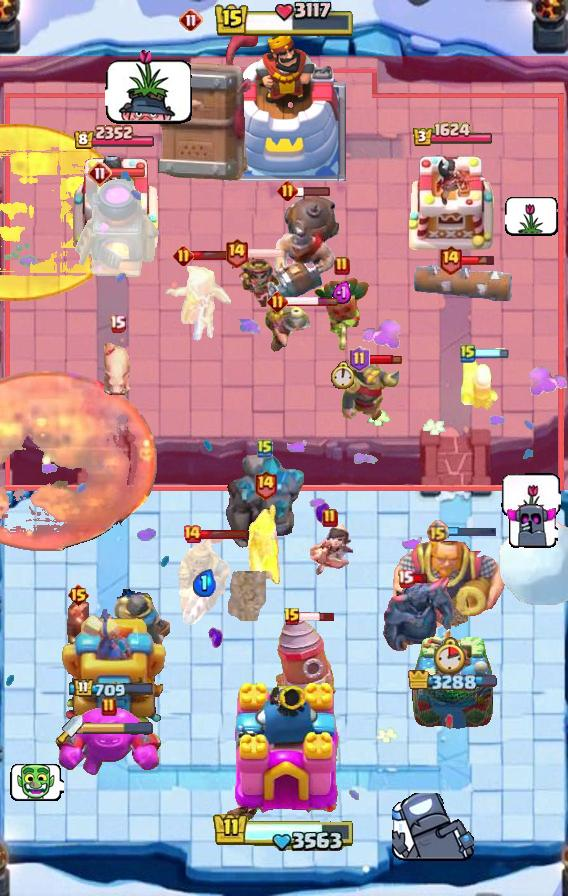bandit: (263, 301, 317, 353)
bar: (62, 601, 166, 731)
bomb-tower: (246, 502, 284, 600)
bomber: (65, 599, 91, 649)
bomber-evolution: (228, 253, 282, 307)
cannoneer-tower: (223, 455, 307, 553)
clock: (212, 812, 356, 854), (213, 0, 355, 40)
clone: (54, 705, 164, 779)
dart-goblin: (156, 22, 260, 181)
electro-spirit: (192, 569, 216, 597), (332, 281, 353, 305)
elixir: (433, 637, 466, 675), (330, 361, 354, 389)
emote: (446, 525, 498, 539), (285, 297, 339, 308), (191, 250, 241, 261), (199, 528, 249, 539), (248, 247, 285, 259), (299, 611, 336, 623), (295, 185, 331, 197), (460, 254, 495, 266), (366, 353, 401, 365), (110, 166, 146, 177), (473, 348, 509, 359), (412, 572, 429, 583)
firecracker: (341, 361, 399, 423), (112, 589, 170, 650)
fisherman: (228, 571, 266, 621)
giant: (100, 337, 134, 399)
giant-skeleton: (391, 531, 507, 631)
goblin-barrel: (312, 275, 372, 351)
golemite: (379, 575, 461, 655)
hunter: (71, 173, 161, 281)
king-tower: (222, 31, 346, 181), (222, 680, 346, 826)
king-tower-bar: (83, 722, 153, 736)
magic-archer: (276, 614, 336, 708)
minion: (413, 265, 515, 301)
phoenix-egg: (0, 371, 156, 553), (0, 122, 126, 301)
poison: (157, 260, 241, 344)
queen-tower: (67, 152, 161, 256), (407, 150, 499, 256), (411, 627, 495, 731)
ram-rider: (174, 530, 234, 630)
selected: (408, 670, 498, 694), (72, 125, 155, 151), (412, 122, 494, 148), (73, 678, 155, 700)
skeleton: (105, 46, 195, 126), (392, 792, 474, 863), (501, 472, 561, 515), (506, 503, 559, 550), (8, 762, 63, 803), (506, 196, 559, 236)
skeleton-dragon: (305, 521, 355, 577)
text: (437, 245, 462, 276), (254, 469, 279, 500), (224, 237, 248, 267), (179, 8, 203, 32), (88, 161, 112, 185), (427, 520, 450, 544), (67, 583, 90, 607), (350, 346, 371, 372), (277, 180, 298, 201), (174, 245, 195, 266), (268, 292, 289, 313), (182, 524, 202, 544), (283, 607, 301, 627), (398, 568, 415, 587), (334, 256, 350, 276), (460, 343, 476, 363), (257, 438, 273, 458), (322, 508, 338, 528), (101, 697, 117, 717), (109, 315, 126, 333)
tombstone: (459, 354, 501, 412)
wall-breaker: (497, 516, 568, 608)
wizard: (260, 191, 340, 301)
